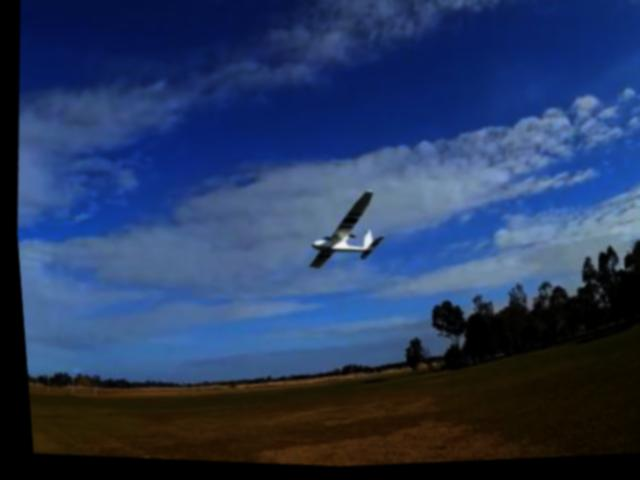uav: (291, 178, 395, 287)
